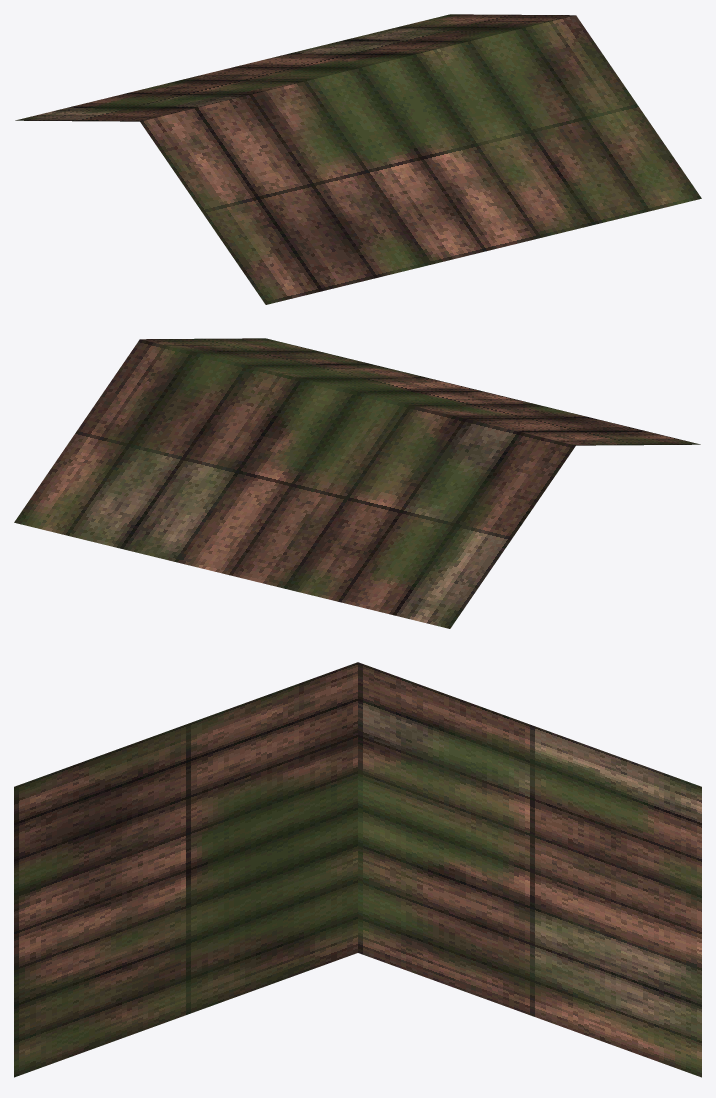
Rendered from roof_ridge.gltf.
The picture shows the model from 3 angles, top to bottom: view 1: azimuth 30°, elevation 25°; view 2: azimuth 150°, elevation 25°; view 3: azimuth 270°, elevation 25°; orthographic projection. The views are drawn at different scales.
Parts seen in each view (by area): view 1: roof_ridge-col; view 2: roof_ridge-col; view 3: roof_ridge-col.
Part boxes in pixels (x1,y1,x2,y2): roof_ridge-col: (15, 14, 701, 304); roof_ridge-col: (14, 338, 700, 628); roof_ridge-col: (14, 662, 701, 1077).
Bounding box in the file's own units: 2 × 0.42 × 2.
2 materials, 2 textured.
